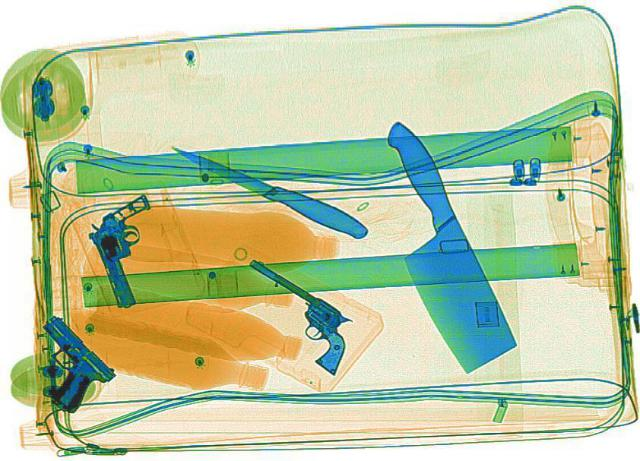Gun: (235, 247, 379, 376), (17, 308, 123, 414), (69, 190, 161, 309)
Knife: (334, 115, 536, 378), (158, 133, 378, 244)
